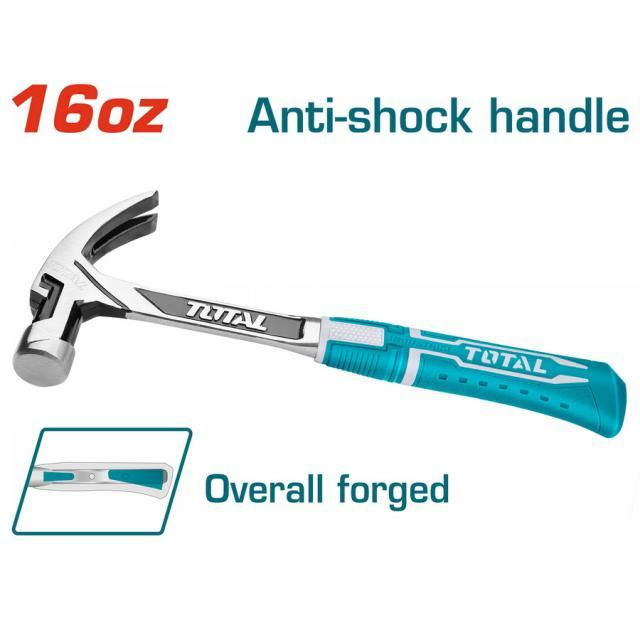hammer: (4, 185, 629, 448)
